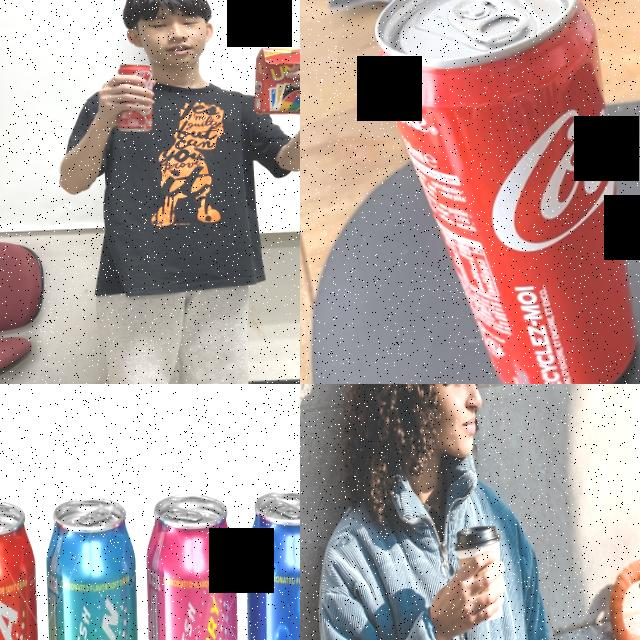can: (376, 0, 640, 384), (139, 488, 248, 640), (41, 491, 148, 640), (237, 486, 300, 640), (113, 60, 155, 134)
cup: (453, 524, 507, 624)
